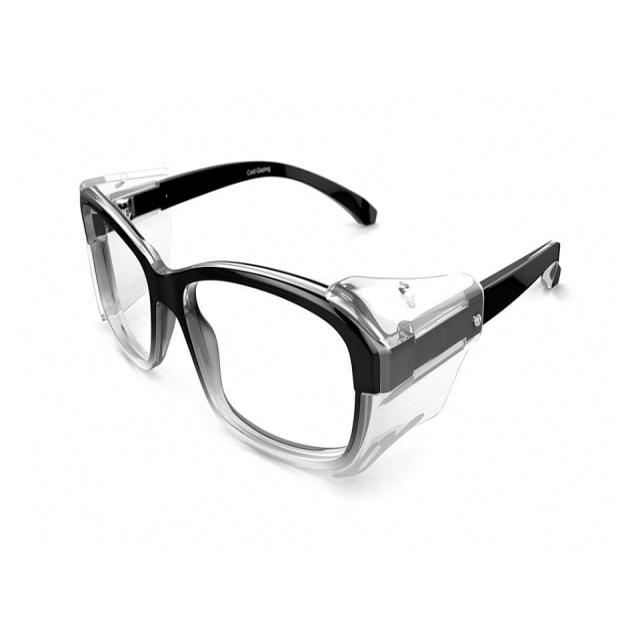Protective Glasses: (84, 88, 589, 538)
